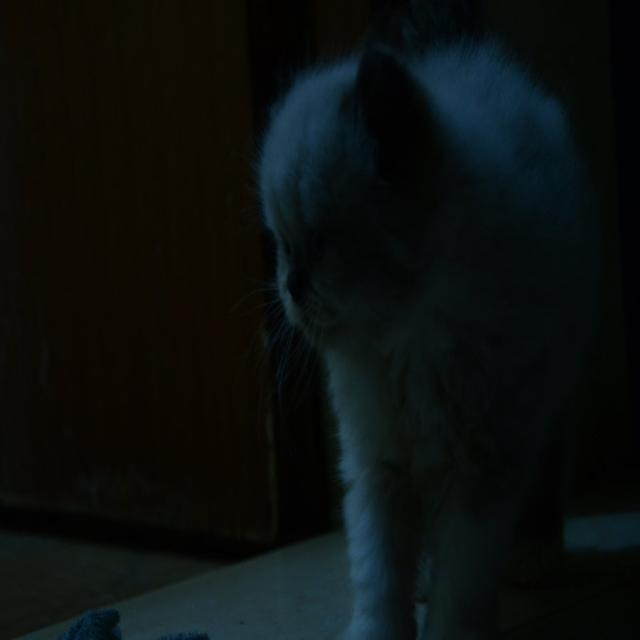Cat: (220, 0, 609, 640)
